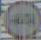Heavy Vehicles: (5, 1, 40, 38)
